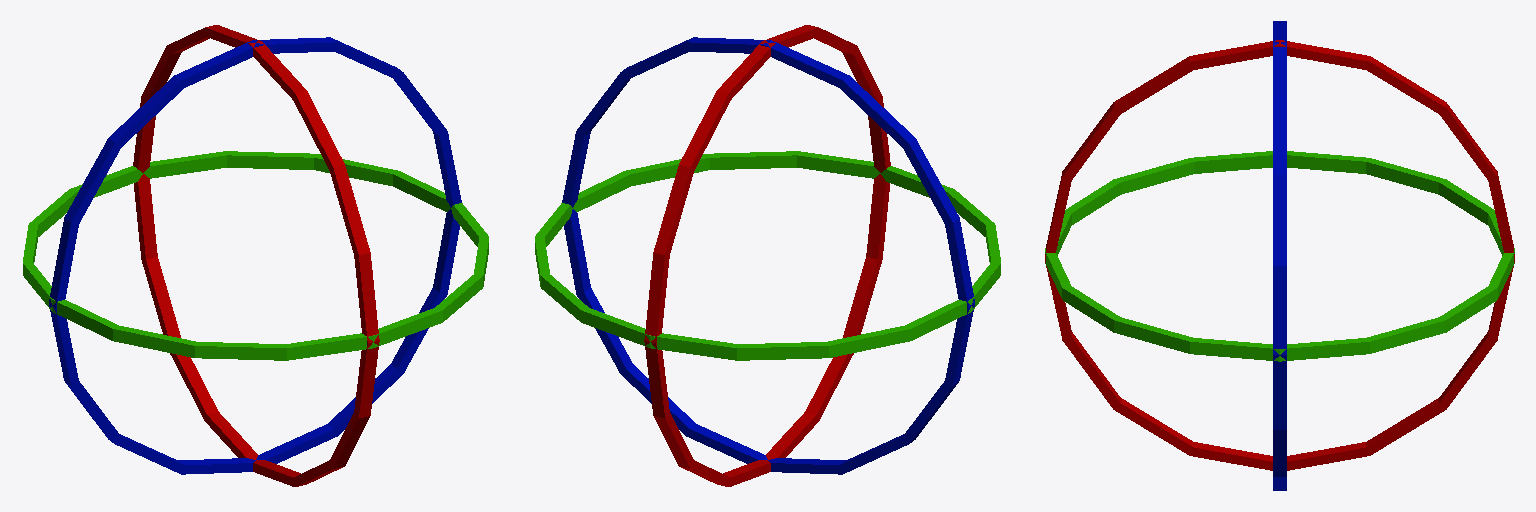
File: gizmo.obj
The picture shows the model from 3 angles: view 1: azimuth 30°, elevation 25°; view 2: azimuth 150°, elevation 25°; view 3: azimuth 270°, elevation 25°; orthographic projection.
Parts seen in each view (by area): view 1: Cylinder; view 2: Cylinder; view 3: Cylinder.
Boxes of the visible parts, x1=… form: Cylinder: x1=23, y1=25, x2=488, y2=486; Cylinder: x1=535, y1=25, x2=1000, y2=486; Cylinder: x1=1045, y1=21, x2=1514, y2=490.
Size of the model in its own units: 2 by 2 by 2.